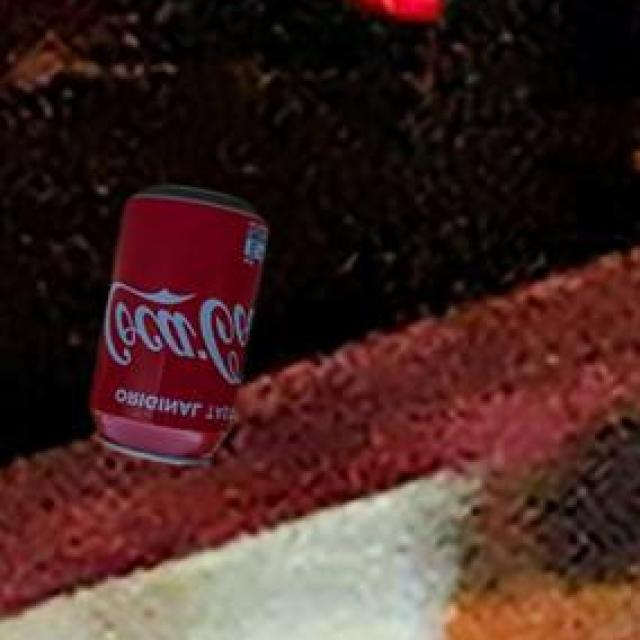logam: (94, 181, 272, 461)
